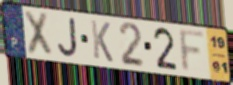2: (118, 21, 146, 69), (152, 27, 179, 73)
F: (177, 28, 207, 75)
J: (57, 17, 79, 59)
K: (89, 19, 115, 65)
X: (22, 8, 54, 59)
